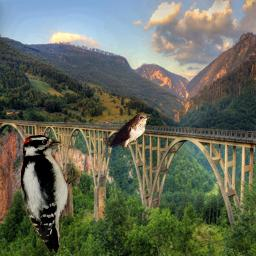Cuckoo: (103, 113, 153, 150)
Woodpecker: (21, 135, 82, 253)
